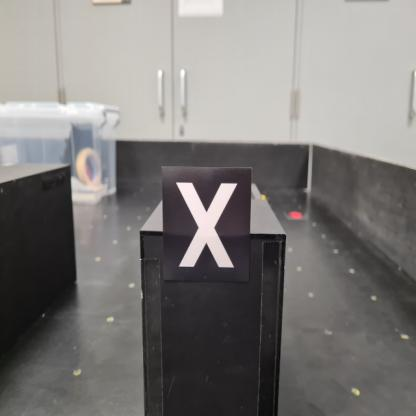x: (162, 165, 253, 280)
